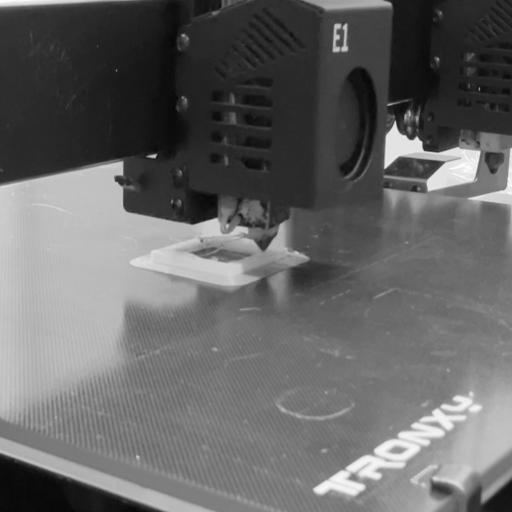spaghetti_and_stringing: (192, 228, 266, 256)
